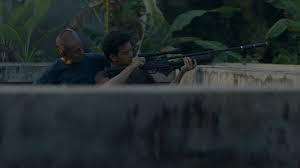rifle: (104, 40, 269, 83)
